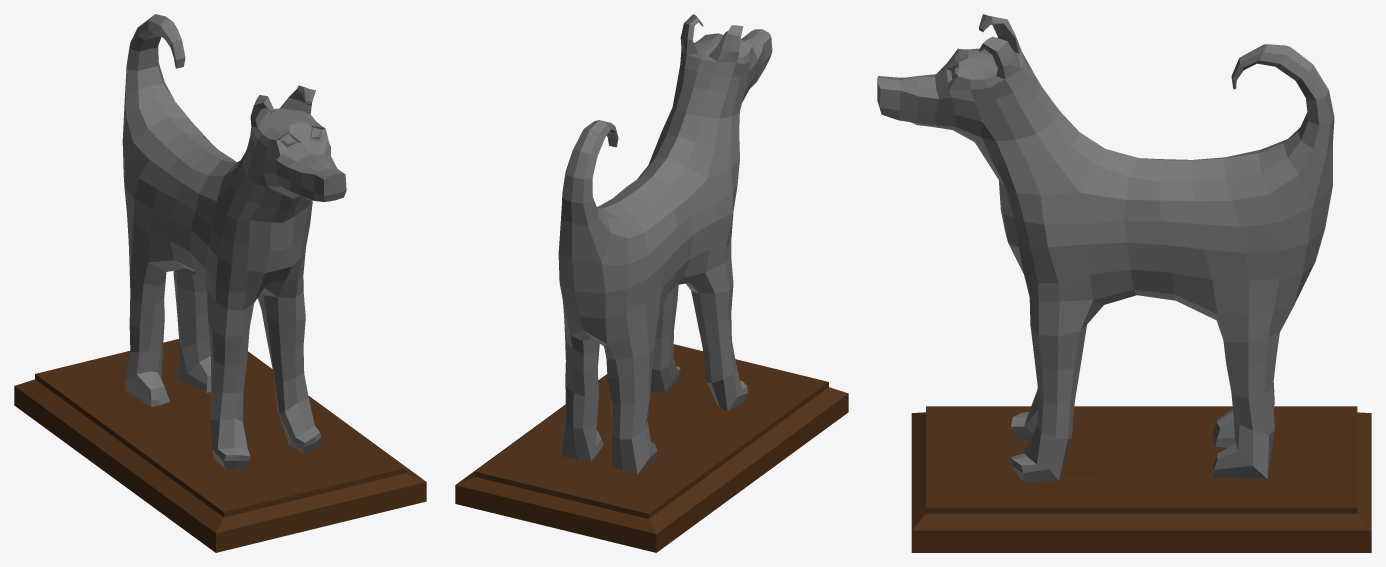
The model's file is Laika Statue.fbx.
3 renders of one model, left to right at view 1: azimuth 30°, elevation 25°; view 2: azimuth 150°, elevation 25°; view 3: azimuth 270°, elevation 25°, orthographic. The views are drawn at different scales.
Parts seen in each view (by area): view 1: Cube; view 2: Cube; view 3: Cube.
Boxes of the visible parts, <box> form: Cube: <box>14,14,426,552</box>; Cube: <box>455,14,848,552</box>; Cube: <box>877,14,1371,552</box>.
Bounding box in the file's own units: 239 × 444 × 425.
